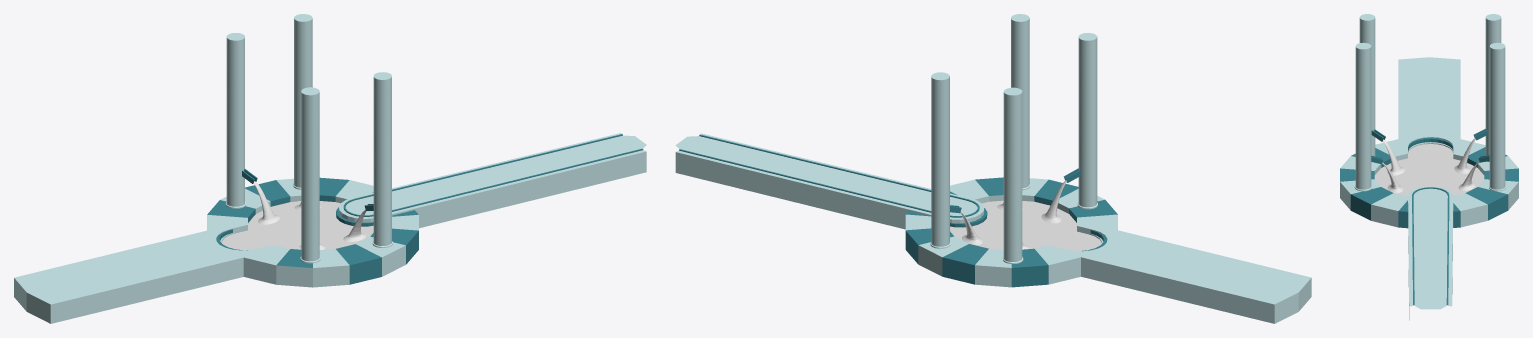
File: SM_Healing_02.fbx
3 views of the same model, side by side, from view 1: azimuth 30°, elevation 25°; view 2: azimuth 150°, elevation 25°; view 3: azimuth 270°, elevation 25° (orthographic). The views are drawn at different scales.
Parts seen in each view (by area): view 1: Cylinder006, Cylinder005, Agua estancada; view 2: Cylinder006, Cylinder005, Agua estancada; view 3: Cylinder006, Cylinder005, Agua estancada, Agua.001, Agua.002, Agua.003, Agua, Circulo agua.001, Circulo agua.002, Circulo agua, Circulo agua.003.
Boxes of the visible parts, bbox=[...] form: Cylinder006: bbox=[14, 133, 646, 323]; Cylinder005: bbox=[225, 14, 392, 263]; Agua estancada: bbox=[222, 201, 373, 250]; Cylinder006: bbox=[675, 133, 1311, 323]; Cylinder005: bbox=[930, 14, 1097, 263]; Agua estancada: bbox=[950, 200, 1101, 250]; Cylinder006: bbox=[1340, 57, 1518, 320]; Cylinder005: bbox=[1354, 14, 1506, 191]; Agua estancada: bbox=[1374, 144, 1484, 196]; Agua.001: bbox=[1383, 139, 1405, 175]; Agua.002: bbox=[1454, 138, 1475, 173]; Agua.003: bbox=[1458, 161, 1479, 190]; Agua: bbox=[1382, 162, 1403, 193]; Circulo agua.001: bbox=[1381, 165, 1411, 177]; Circulo agua.002: bbox=[1447, 163, 1477, 175]; Circulo agua: bbox=[1381, 182, 1410, 194]; Circulo agua.003: bbox=[1452, 180, 1480, 192].
Size of the model in its own units: 1753 by 510 by 523.
